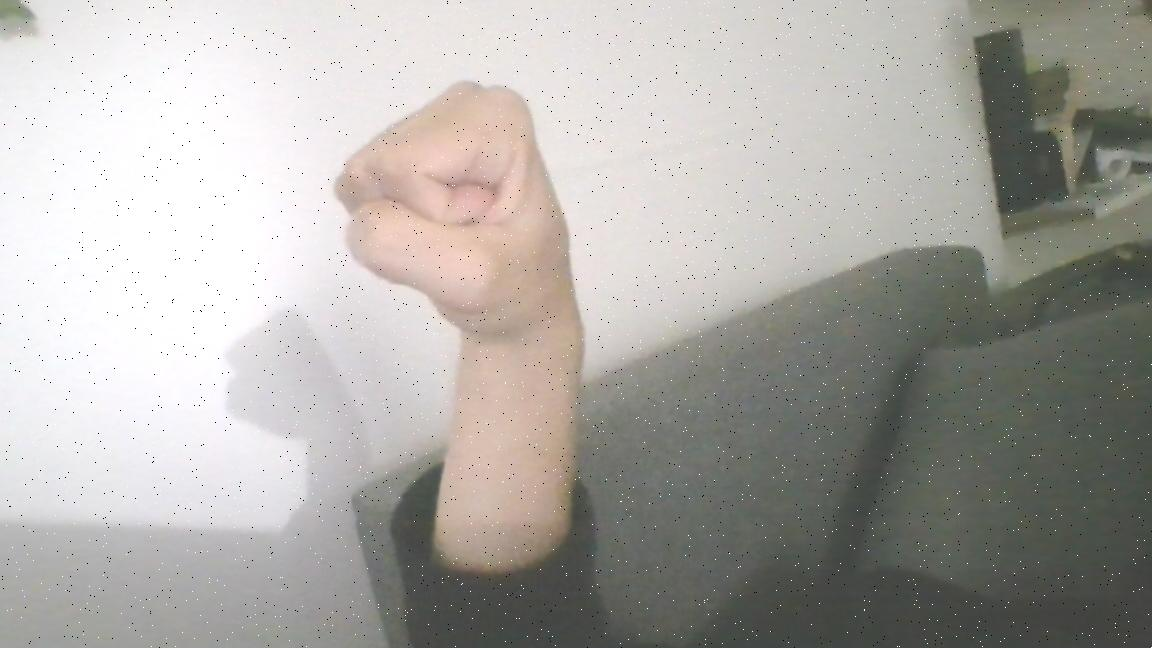stop: (314, 49, 604, 379)
